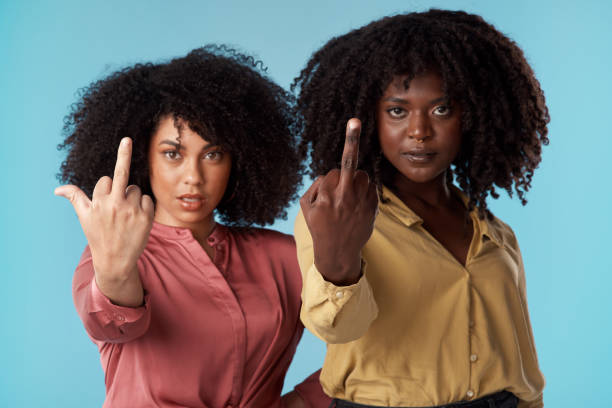insulting_gesture: (52, 135, 156, 280), (297, 115, 381, 264)
